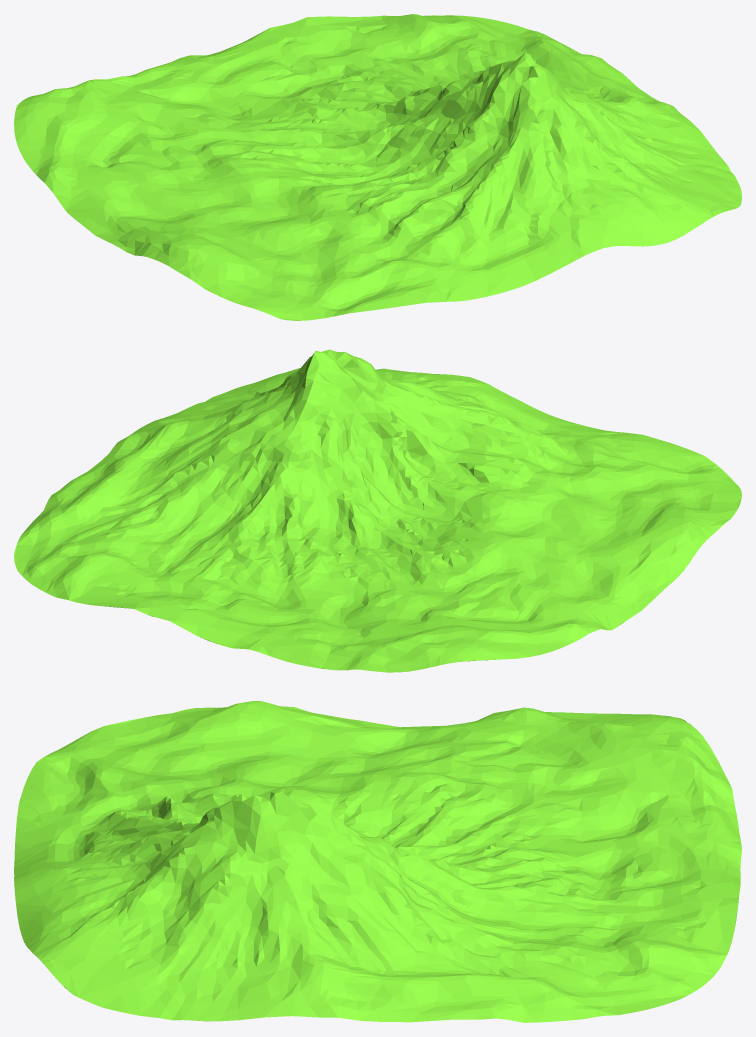
The model's file is terrain5.fbx.
3 renders of one model, top to bottom at view 1: azimuth 30°, elevation 25°; view 2: azimuth 150°, elevation 25°; view 3: azimuth 270°, elevation 25°, orthographic. The views are drawn at different scales.
Parts seen in each view (by area): view 1: terrain5; view 2: terrain5; view 3: terrain5.
Part boxes in pixels (left/top/right/bottom): terrain5: left=14, top=14, right=741, bottom=320; terrain5: left=14, top=349, right=741, bottom=672; terrain5: left=14, top=701, right=741, bottom=1022.
Size of the model in its own units: 64.38 by 14.31 by 64.17.
